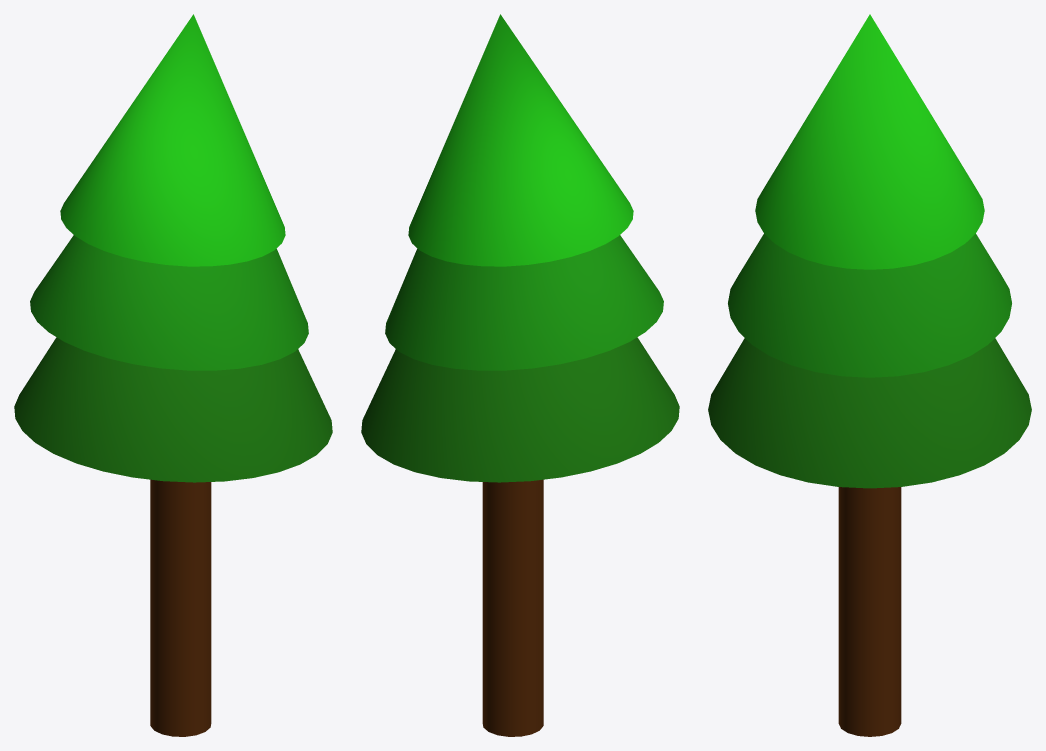
File: tree 2.fbx
3 views of the same model, side by side, from view 1: azimuth 30°, elevation 25°; view 2: azimuth 150°, elevation 25°; view 3: azimuth 270°, elevation 25° (orthographic).
Parts seen in each view (by area): view 1: tree 2; view 2: tree 2; view 3: tree 2.
Boxes of the visible parts, x1,y1,x2,y2 form: tree 2: [14, 14, 332, 736]; tree 2: [361, 14, 679, 736]; tree 2: [708, 14, 1031, 736].
Size of the model in its own units: 285 by 698 by 286.
